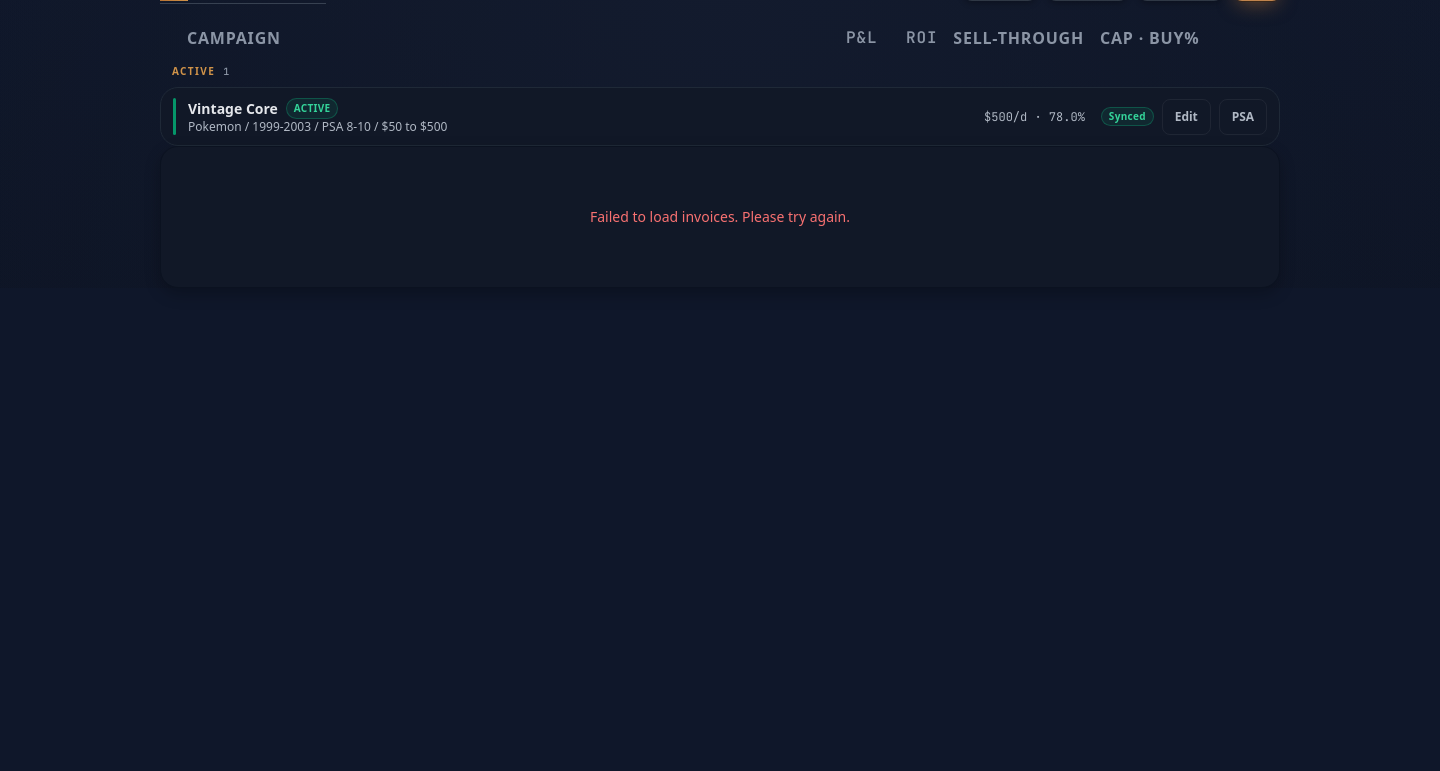
Test: aborts the save when the pre-flight read fails
Click the button with aria-label "edit vintage core" at x=1186, y=117, box [1162,99,1211,135]
(page scrolled)
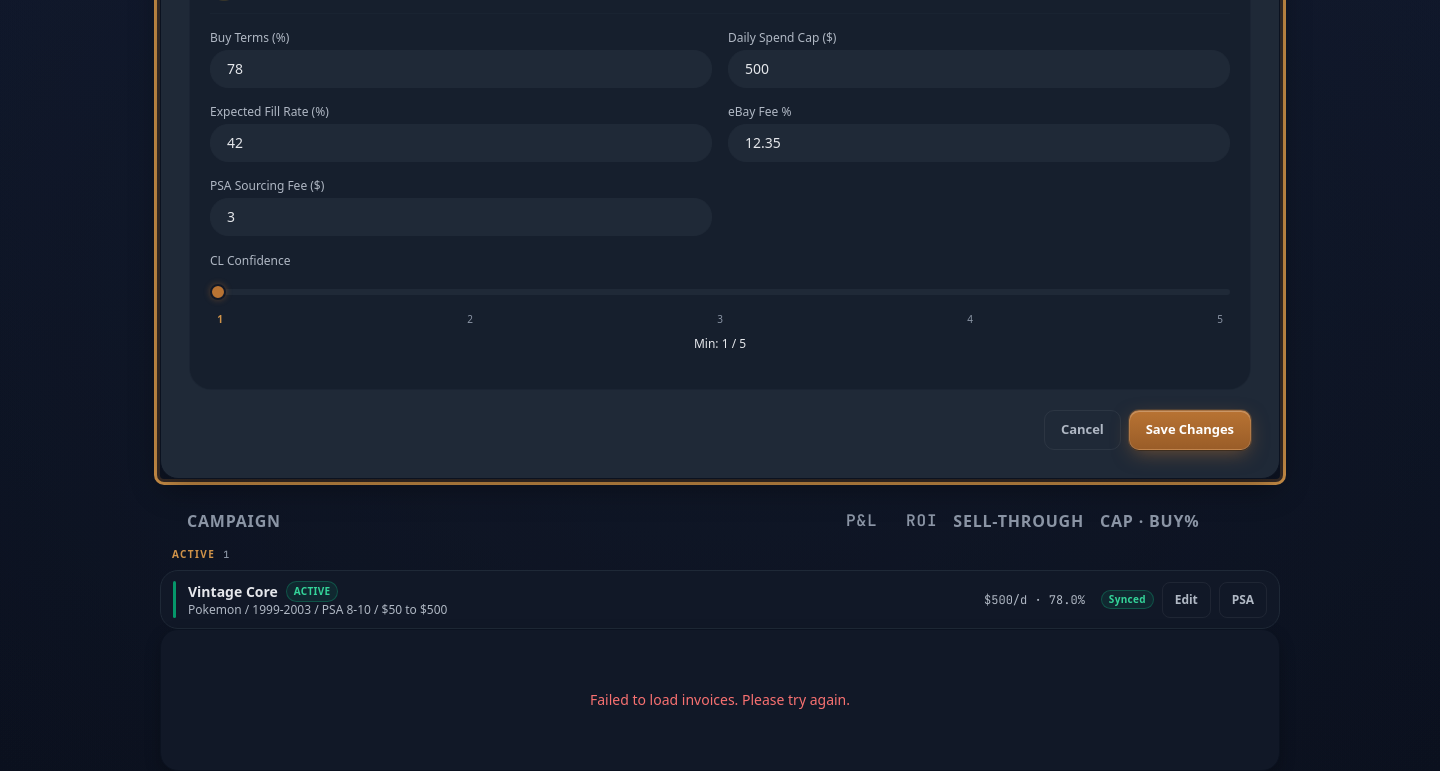
Click the button "Save Changes" at x=1190, y=430, box [1129,410,1251,450]
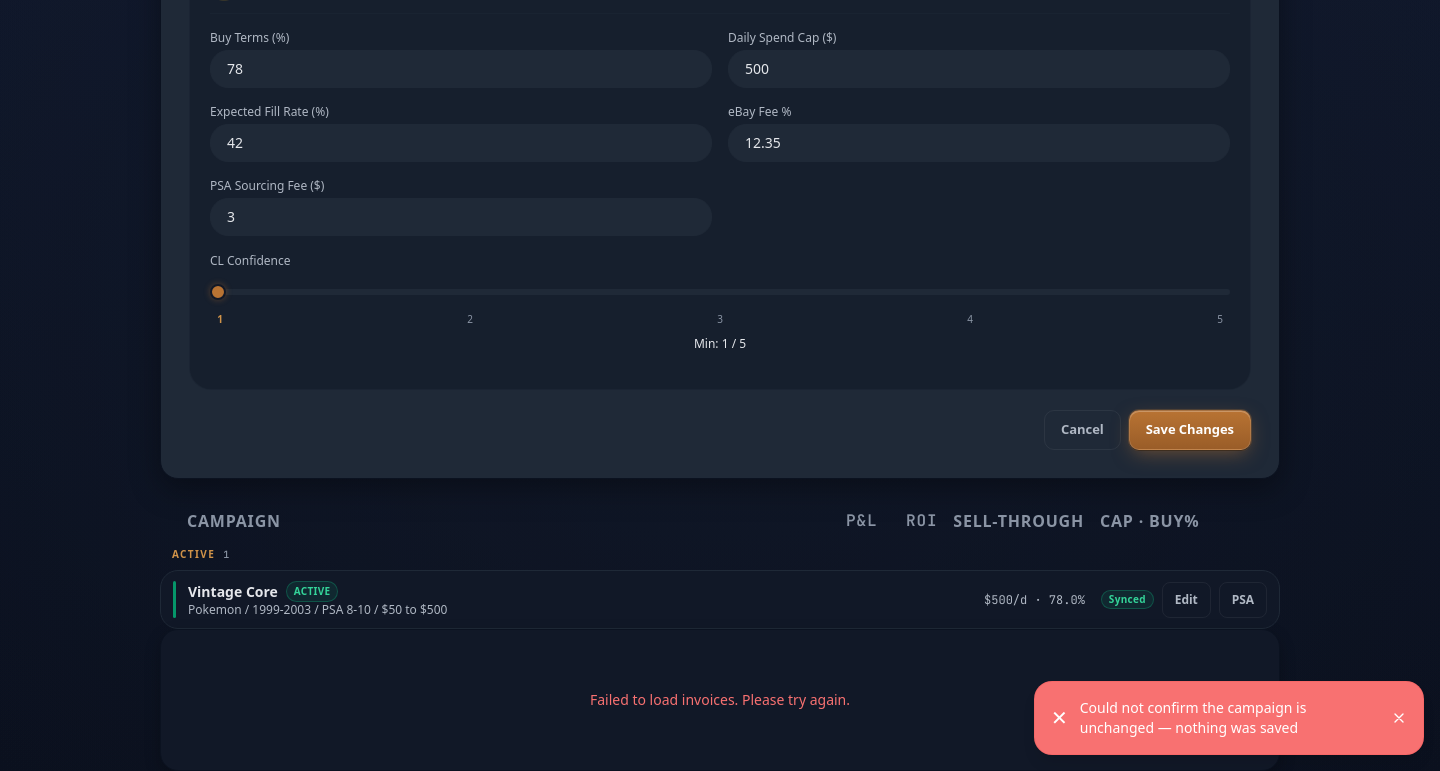
expect the text "Could not confirm" is shown: met, box [1080,698,1306,737]
